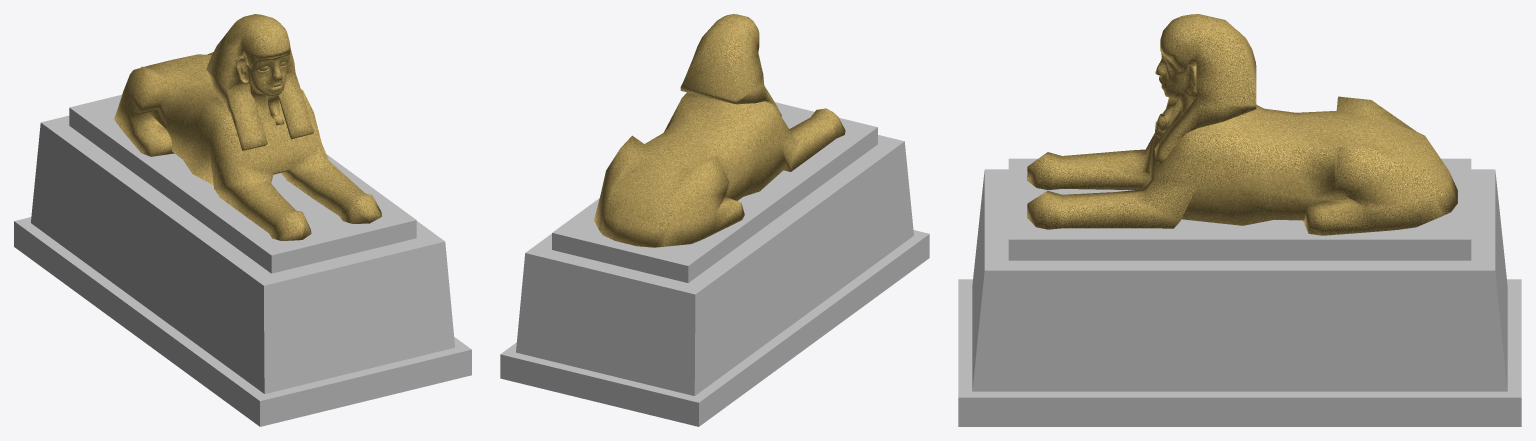
File: Pedestal1.fbx
3 views of the same model, side by side, from view 1: azimuth 30°, elevation 25°; view 2: azimuth 150°, elevation 25°; view 3: azimuth 270°, elevation 25° (orthographic). The views are drawn at different scales.
Parts seen in each view (by area): view 1: Pedestal1, Sphynx; view 2: Pedestal1, Sphynx; view 3: Pedestal1, Sphynx.
Boxes of the visible parts, bbox=[...] form: Pedestal1: bbox=[14, 94, 471, 426]; Sphynx: bbox=[114, 14, 381, 241]; Pedestal1: bbox=[500, 102, 929, 426]; Sphynx: bbox=[594, 14, 845, 247]; Pedestal1: bbox=[958, 158, 1521, 426]; Sphynx: bbox=[1027, 14, 1457, 235].
Size of the model in its own units: 2.75 by 3.8 by 5.54.
